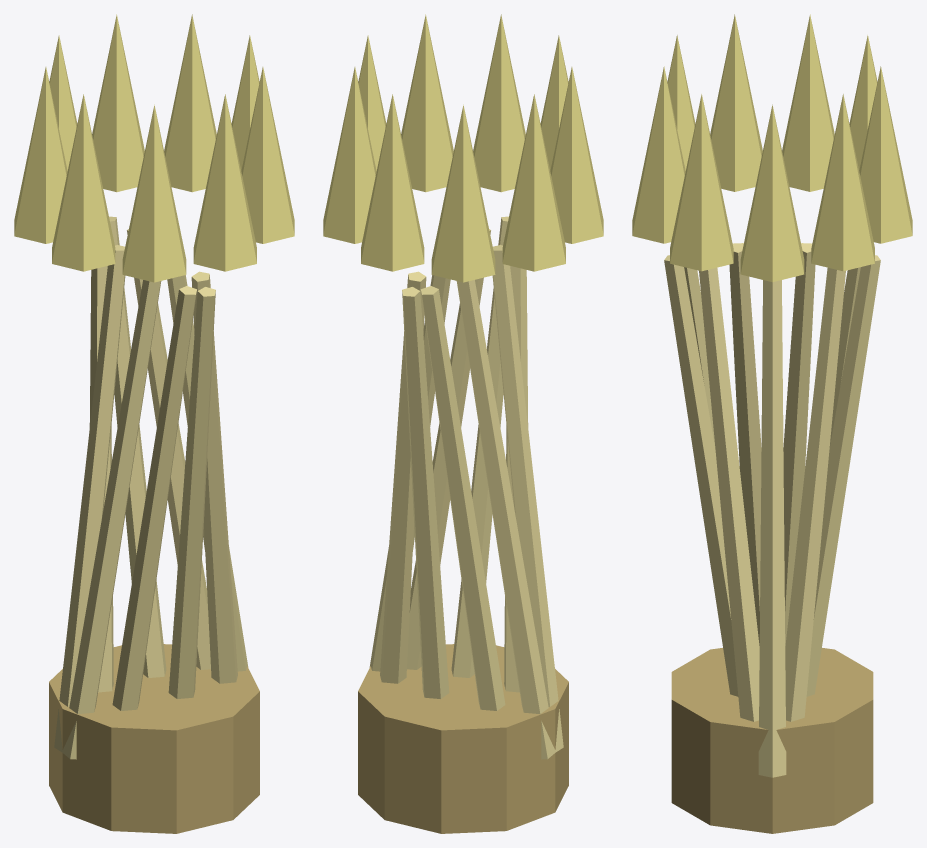
The model's file is 4176_grain.glb.
3 renders of one model, left to right at view 1: azimuth 30°, elevation 25°; view 2: azimuth 150°, elevation 25°; view 3: azimuth 270°, elevation 25°, orthographic.
Size of the model in its own units: 0.3519 by 0.99 by 0.3438.
